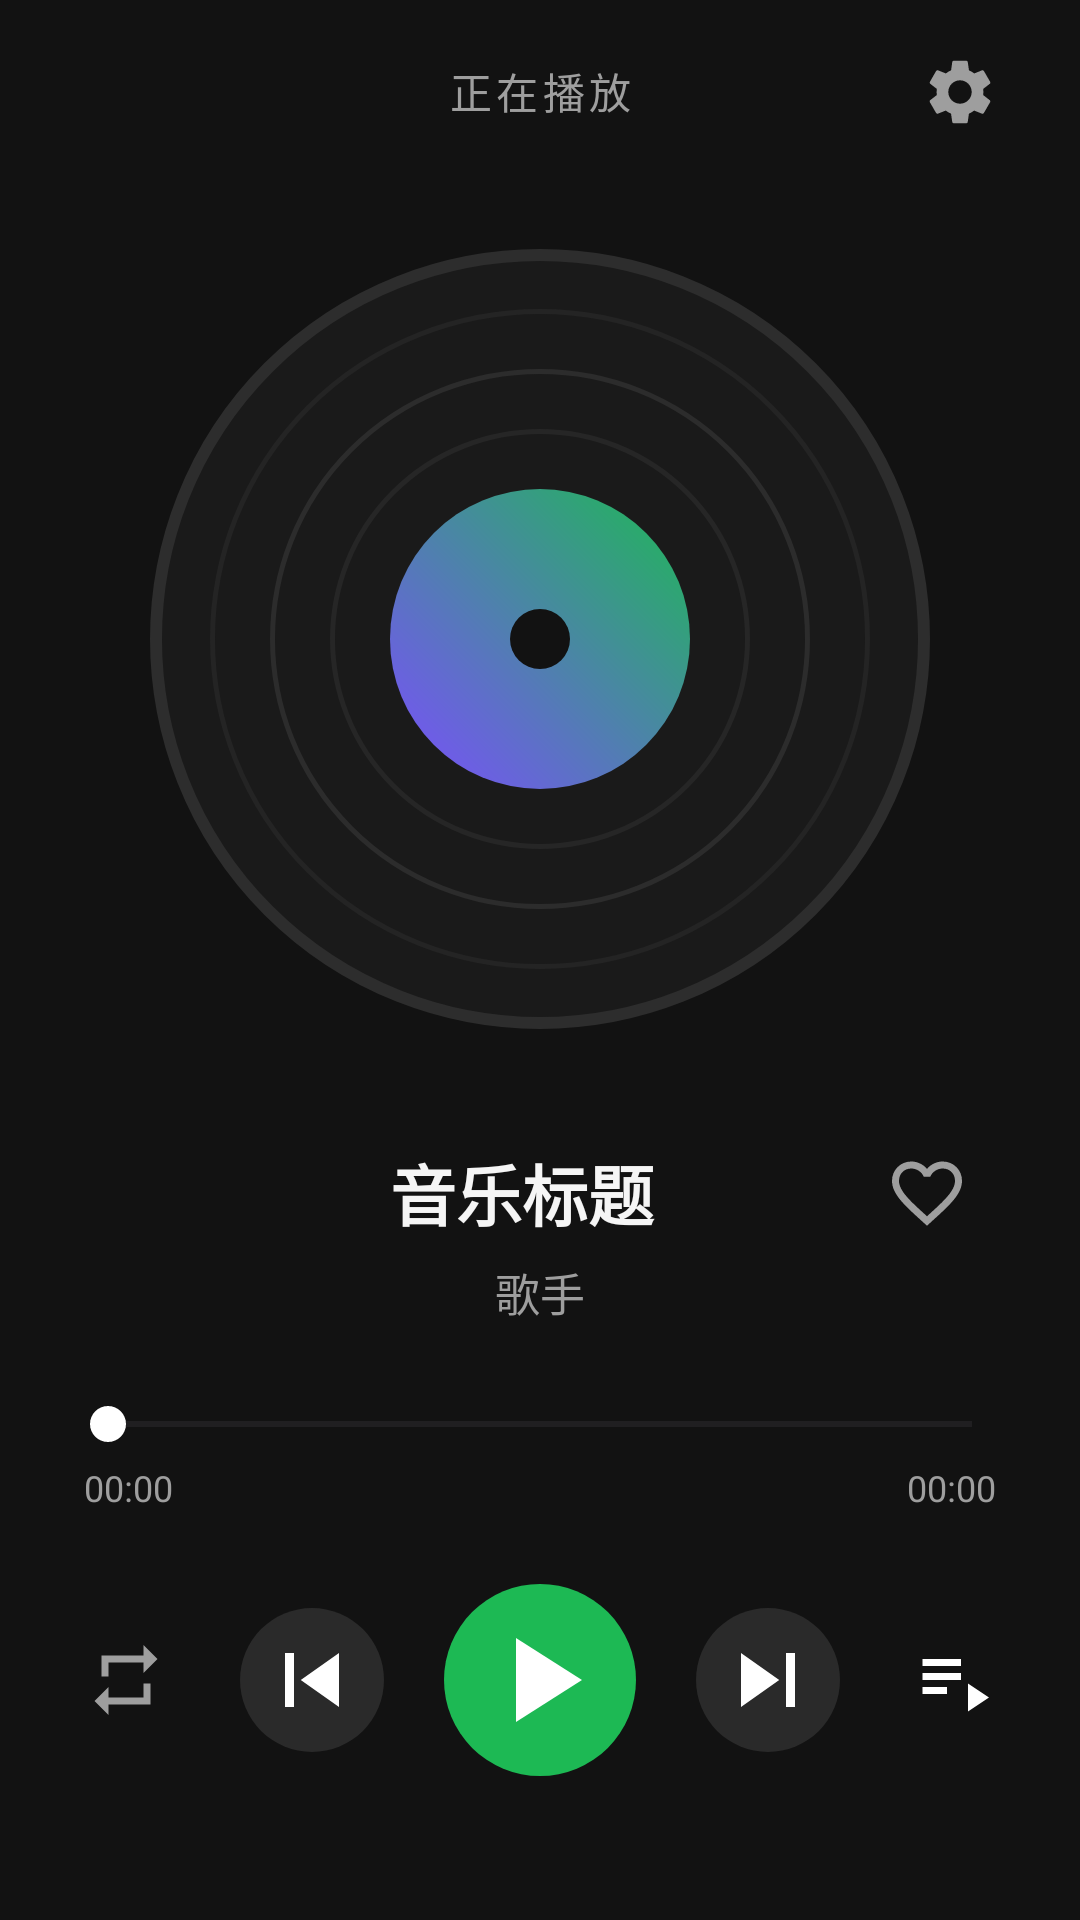

Screen size 1080px x 1920px. Icon name, then its box in pixels as {"x1": x1, "y1": y1, "x2": x2, "y2": y2}:
上一首: {"x1": 285, "y1": 1653, "x2": 339, "y2": 1707}
下一首: {"x1": 741, "y1": 1653, "x2": 795, "y2": 1707}
播放/暂停: {"x1": 444, "y1": 1584, "x2": 636, "y2": 1776}
播放列表: {"x1": 922, "y1": 1659, "x2": 989, "y2": 1712}
播放模式: {"x1": 95, "y1": 1645, "x2": 157, "y2": 1715}
收藏歌曲: {"x1": 892, "y1": 1161, "x2": 962, "y2": 1226}
设置与功能: {"x1": 929, "y1": 60, "x2": 991, "y2": 124}
